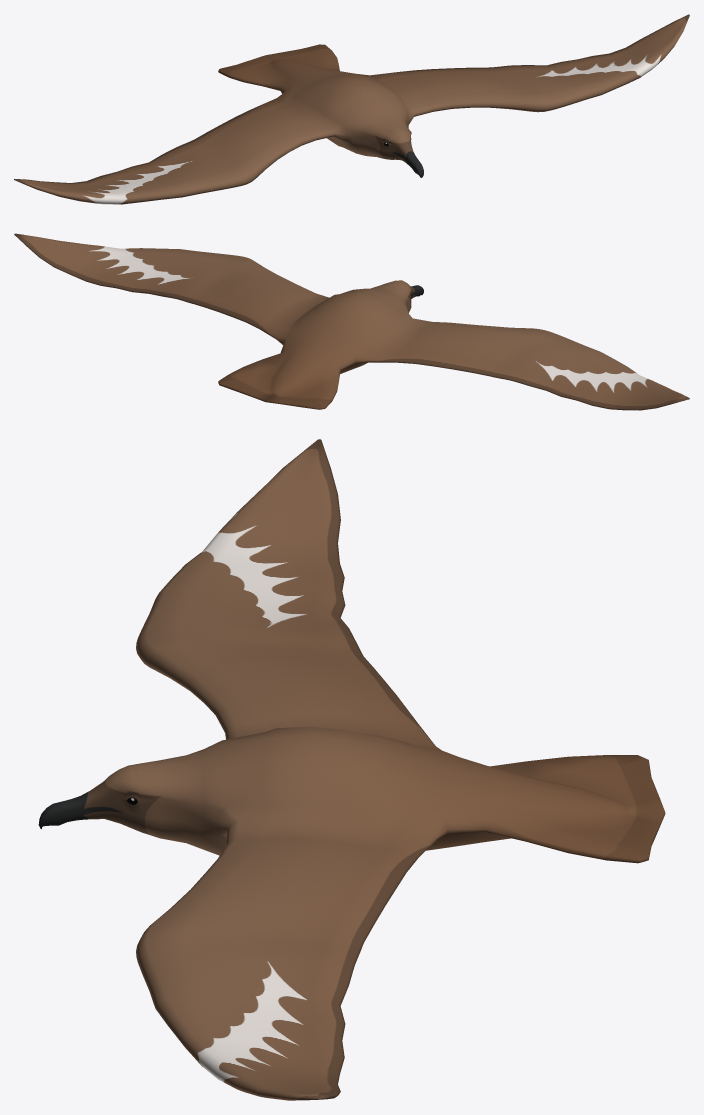
Rendered from Skua00.fbx.
3 views of the same model, one above another, from view 1: azimuth 30°, elevation 25°; view 2: azimuth 150°, elevation 25°; view 3: azimuth 270°, elevation 25° (orthographic). The views are drawn at different scales.
Visible parts, largest first — view 1: skua00; view 2: skua00; view 3: skua00.
Part boxes in pixels (x1,y1,x2,y2): skua00: (14, 14, 689, 204); skua00: (14, 233, 689, 410); skua00: (38, 439, 665, 1100).
Size of the model in its own units: 1.26 by 0.1112 by 0.5059.
